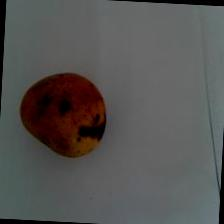Mango Overripe: (13, 70, 112, 159)
